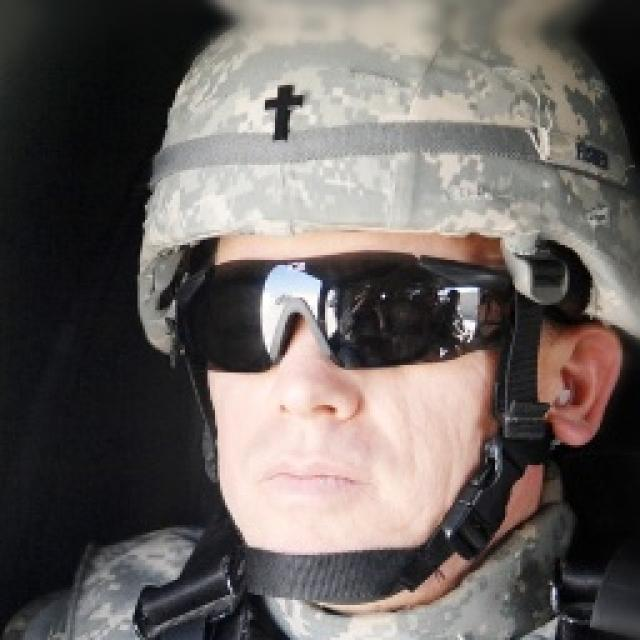glasses: (143, 248, 532, 378)
